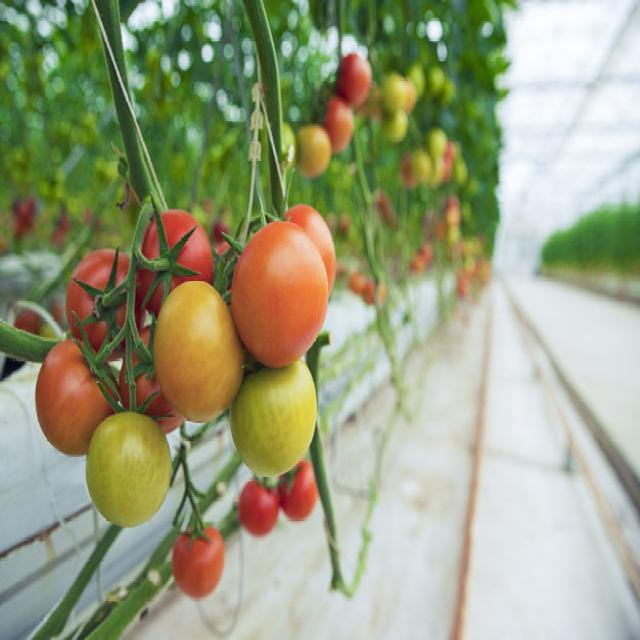sari: (154, 278, 248, 410)
yesil: (84, 388, 172, 522), (252, 368, 320, 470)
